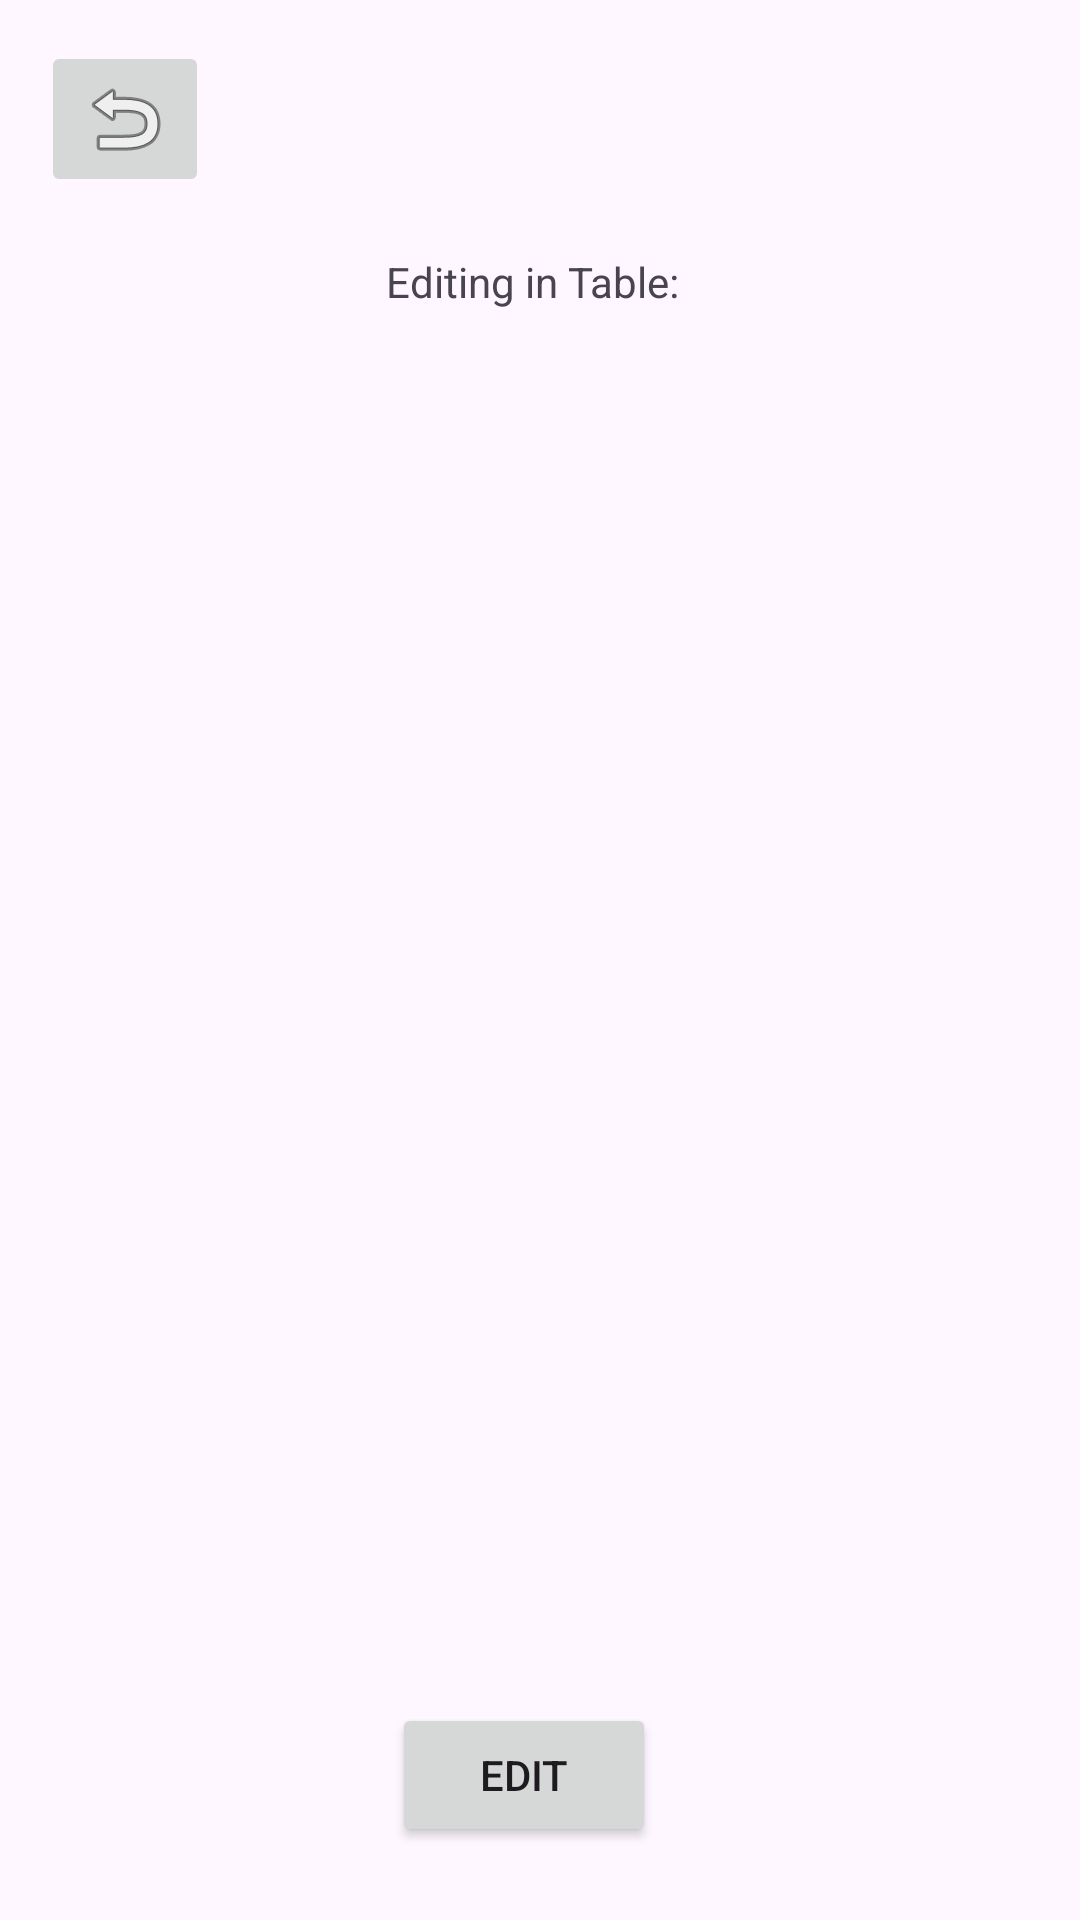

Icons on this 1080*1920 Android screen, each with its box as (x1, y1, x2, y2):
revert: (53, 59, 197, 179)
